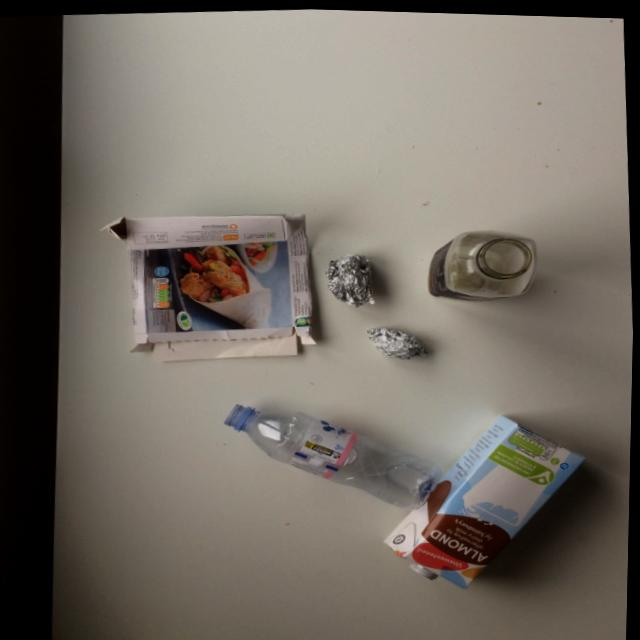Can-Metal: (319, 245, 387, 312), (358, 318, 439, 365)
Cardboard: (374, 399, 601, 610)
Paper: (91, 191, 330, 381)
Plastic: (212, 387, 446, 525), (415, 215, 553, 311)
